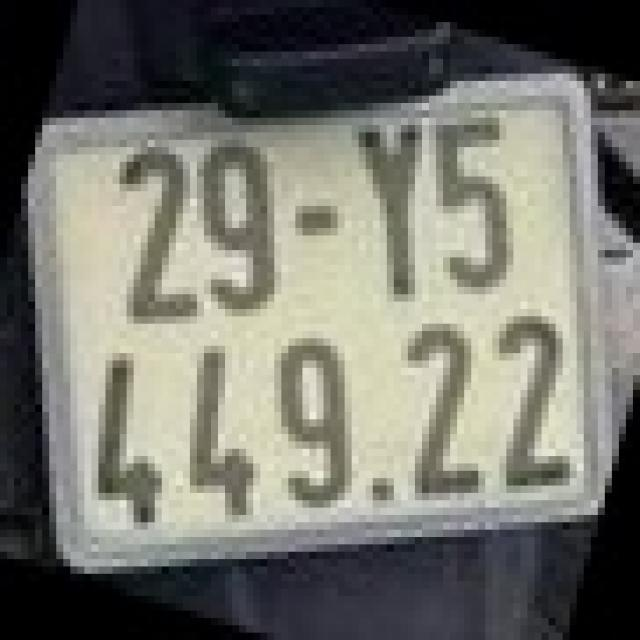2: (105, 140, 197, 323), (400, 316, 486, 500), (492, 309, 577, 493)
4: (84, 346, 169, 530), (182, 338, 260, 522)
5: (428, 110, 520, 294)
9: (267, 331, 359, 508), (196, 140, 282, 316)
Y: (352, 118, 429, 302)
